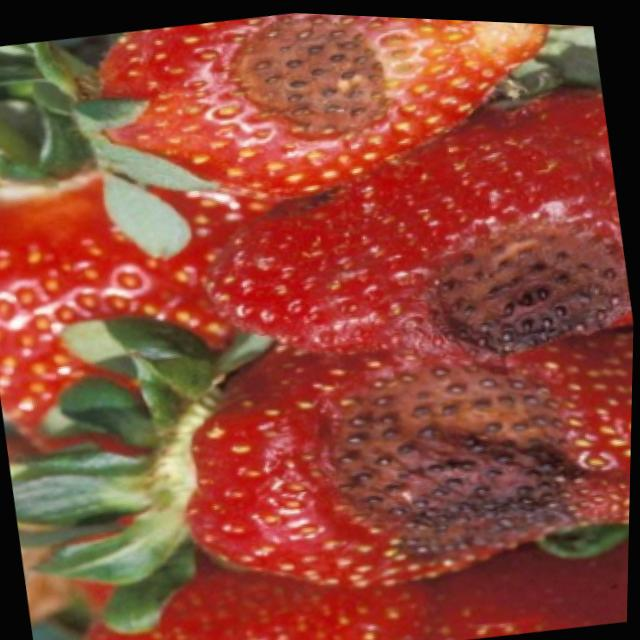Anthracnose Fruit Rot: (309, 350, 599, 578), (423, 193, 634, 359), (217, 10, 398, 139)
